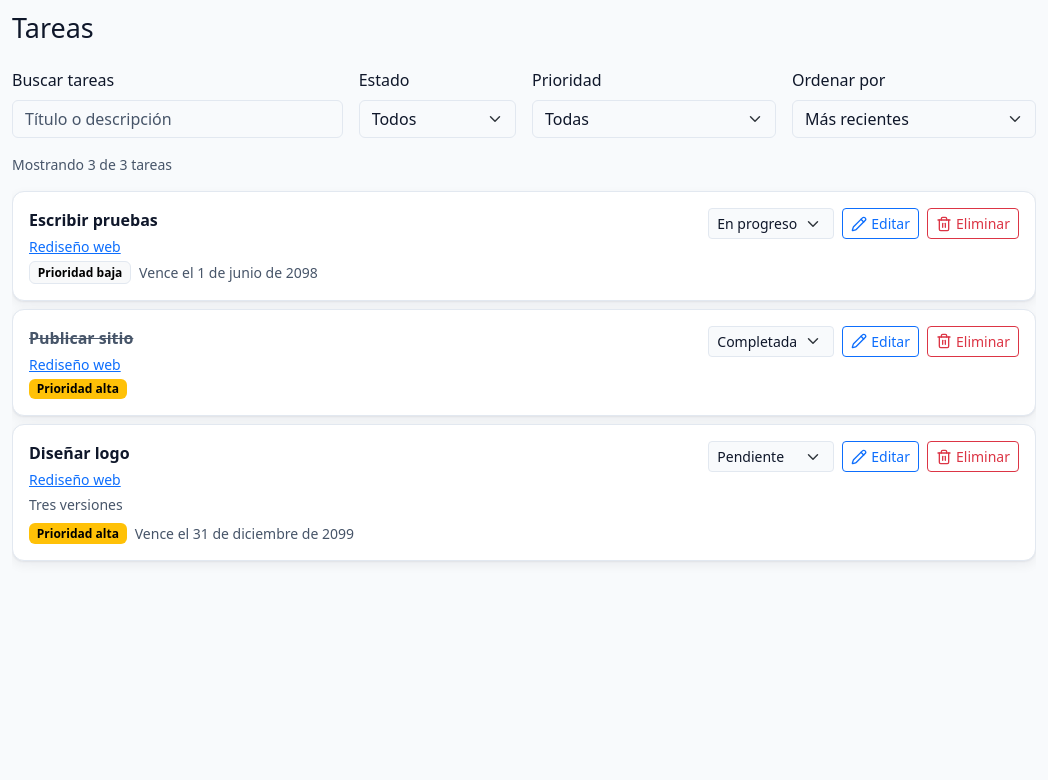
Test case: PaginaTareas › la búsqueda ignora mayúsculas y acentos
This screenshot has width=1048, height=780.
Type "DISENAR" into the search field labelled "Buscar tareas".
click(177, 119); type("DISENAR")  # box left=12, top=100, right=343, bottom=138
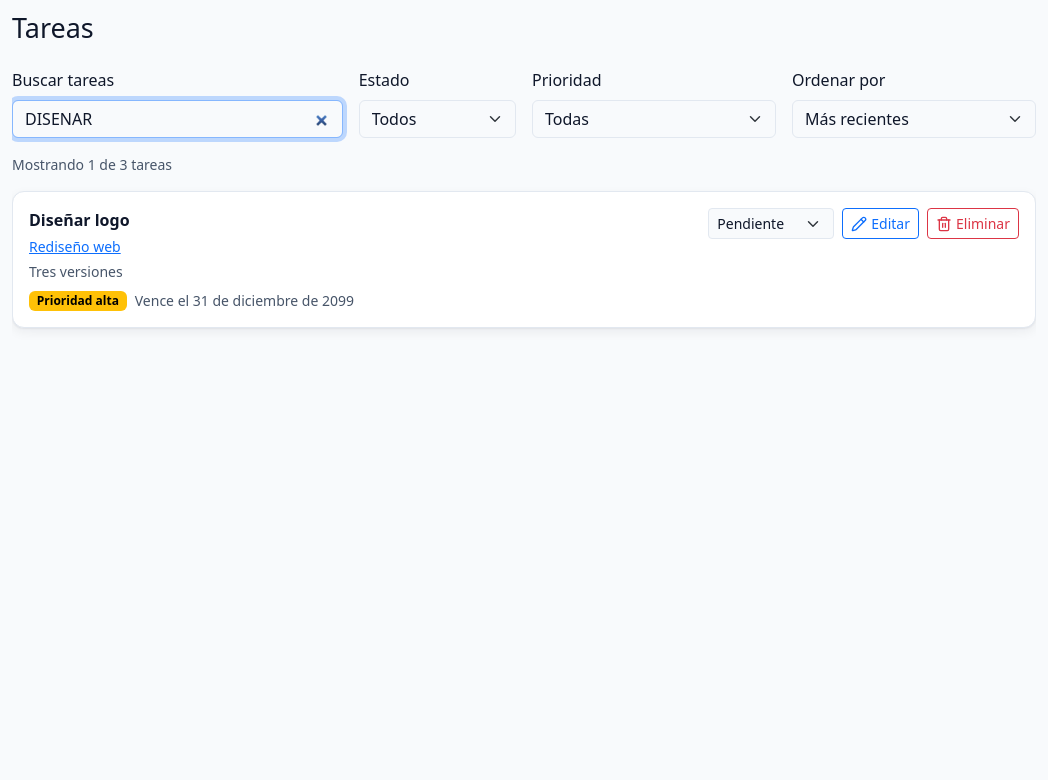
Check: the message reads "Mostrando 1 de 3 tareas", box left=12, top=155, right=172, bottom=174
